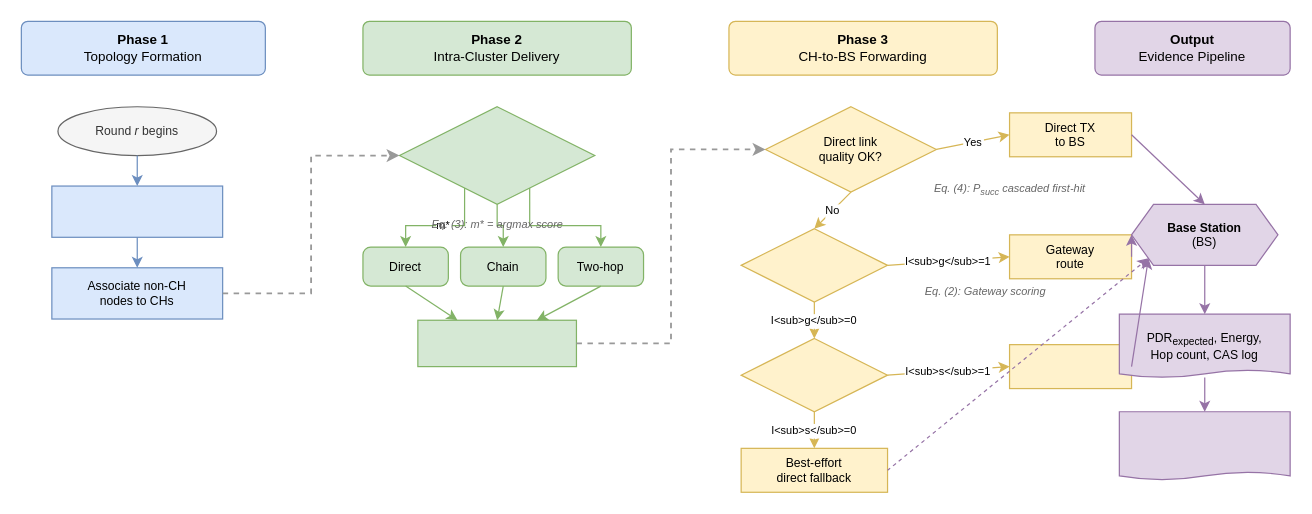
This 1312x514 diagram has some shape labels left out. Here are the shapes that lost their labels. From the top down, the centre of each, then its label:
the point at 496,155: CAS evaluates (q̂, ê, û) features
the point at 137,211: Compute CH scores & elect CH set
the point at 814,265: Gateway available?
the point at 496,343: Aggregate data at CH
the point at 814,374: Skeleton available?
the point at 1070,366: Skeleton route
the point at 1204,445: Provenance: seed, git commit, config metadata
